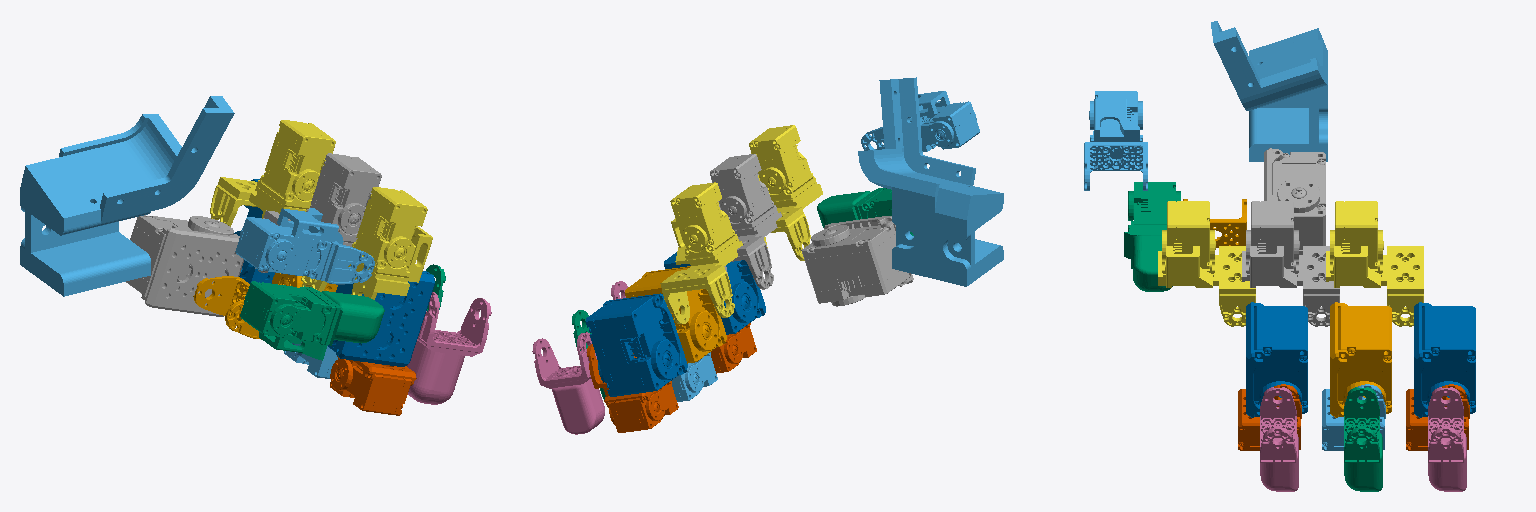
--- What the picture shows (computed from the rendered views, not written in the file) ---
The picture shows the robot from 3 angles, left to right: view 1: azimuth 30°, elevation 25°; view 2: azimuth 150°, elevation 25°; view 3: azimuth 270°, elevation 25°; orthographic projection.
Model leap_hand with 19 links and 18 joints (16 revolute, 2 fixed), rooted at world, posed all joints at 0.
Visible links, largest first — view 1: mount, pip_4, thumb_fingertip, thumb_dip, mcp_joint, mcp_joint_3, fingertip, pip, mcp_joint_2, dip, thumb_pip, dip_2 (+1 smaller); view 2: mount, pip_3, mcp_joint_3, pip_4, mcp_joint_2, mcp_joint, fingertip_3, pip_2, thumb_dip, dip_3, pip, thumb_fingertip (+2 smaller); view 3: mount, mcp_joint_3, mcp_joint, mcp_joint_2, pip, pip_2, pip_3, thumb_dip, pip_4, thumb_fingertip, fingertip, fingertip_2 (+5 smaller).
Boxes of the visible links, x1=… form: mount: x1=20, y1=96, x2=234, y2=296; pip_4: x1=126, y1=215, x2=243, y2=316; thumb_fingertip: x1=240, y1=281, x2=384, y2=360; thumb_dip: x1=235, y1=208, x2=374, y2=284; mcp_joint: x1=301, y1=187, x2=432, y2=299; mcp_joint_3: x1=210, y1=120, x2=335, y2=226; fingertip: x1=407, y1=292, x2=491, y2=404; pip: x1=328, y1=271, x2=434, y2=366; mcp_joint_2: x1=255, y1=153, x2=381, y2=272; dip: x1=330, y1=356, x2=416, y2=415; thumb_pip: x1=193, y1=276, x2=261, y2=339; dip_2: x1=284, y1=342, x2=337, y2=378; mount: x1=858, y1=77, x2=1003, y2=286; pip_3: x1=585, y1=293, x2=687, y2=396; mcp_joint_3: x1=660, y1=182, x2=742, y2=323; pip_4: x1=801, y1=216, x2=913, y2=306; mcp_joint_2: x1=710, y1=154, x2=781, y2=289; mcp_joint: x1=749, y1=125, x2=822, y2=260; fingertip_3: x1=532, y1=332, x2=604, y2=434; pip_2: x1=625, y1=266, x2=726, y2=363; thumb_dip: x1=861, y1=91, x2=979, y2=151; dip_3: x1=587, y1=344, x2=678, y2=432; pip: x1=664, y1=252, x2=765, y2=334; thumb_fingertip: x1=817, y1=188, x2=913, y2=235; mount: x1=1211, y1=21, x2=1327, y2=161; mcp_joint_3: x1=1326, y1=201, x2=1423, y2=326; mcp_joint: x1=1158, y1=201, x2=1255, y2=326; mcp_joint_2: x1=1242, y1=201, x2=1339, y2=326; pip: x1=1246, y1=302, x2=1307, y2=417; pip_2: x1=1330, y1=302, x2=1391, y2=417; pip_3: x1=1414, y1=302, x2=1475, y2=417; thumb_dip: x1=1084, y1=91, x2=1147, y2=190; pip_4: x1=1264, y1=148, x2=1325, y2=254; thumb_fingertip: x1=1124, y1=182, x2=1180, y2=291; fingertip: x1=1260, y1=387, x2=1298, y2=491; fingertip_2: x1=1344, y1=387, x2=1382, y2=491.
Size in the robot's own frame: 0.2514 by 0.2117 by 0.2103 metres.
17 mesh visuals loaded from 9 distinct referenced files (8 OBJ); not drawn: 1 (reference not matched to a file when rendering).

robot.urdf — leap_hand:
<robot name="leap_hand">
    <mujoco>
        <compiler discardvisual="false" />
    </mujoco>

    <link name="world" />

    <joint
        name="world_joint" type="fixed">
        <origin xyz="0 0 0" rpy="0 0 0" />
        <parent link="world" />
        <child link="mount" />
    </joint>

    <link name="mount">
        <visual>
            <origin xyz="0 0 0" rpy="0 0 0" />
            <geometry>
                <mesh filename="package://meshes/leap_mount.obj" />
            </geometry>
        </visual>
        <collision>
            <origin xyz="0 0 0" rpy="0 0 0" />
            <geometry>
                <mesh filename="package://meshes/leap_mount.stl" />
            </geometry>
        </collision>
    </link>

    <joint name="mount_to_palm" type="fixed">
        <origin xyz=" 0.12390202 -0.03159835 -0.06699544"
            rpy="3.14159265e+00  3.49344423e-01 -6.66133815e-16" />
        <parent link="mount" />
        <child link="palm_lower" />
    </joint>

    <link name="palm_lower">
        <visual>
            <origin xyz="-0.020095249652862544332 0.025757756134899473244 -0.034722403578460216134"
                rpy="0 -0 0" />
            <geometry>
                <mesh filename="package://meshes/palm_lower.obj" />
            </geometry>
        </visual>
        <collision>
            <origin xyz="-0.020095249652862544332 0.025757756134899473244 -0.034722403578460216134"
                rpy="0 -0 0" />
            <geometry>
                <mesh filename="package://meshes/palm_lower.stl" />
            </geometry>
        </collision>
        <inertial>
            <origin xyz="0 0 0" rpy="0 0 0" />
            <mass value="0.237" />
            <inertia ixx="0.000354094" ixy="-0.000001193" ixz="-0.000002445" iyy="0.000260915"
                iyz="-0.000002905" izz="0.000529257" />
        </inertial>
    </link>

    <link name="mcp_joint">
        <visual>
            <origin xyz="0.0084069022611744960438 0.0077662438597169954416 0.014657354985032912051"
                rpy="1.6375789613220999807e-15 -1.0210473302491019535e-30 1.7177968783327987474e-31" />
            <geometry>
                <mesh filename="package://meshes/mcp_joint.obj" />
            </geometry>
        </visual>
        <collision>
            <origin xyz="0.0084069022611744960438 0.0077662438597169954416 0.014657354985032912051"
                rpy="1.6375789613220999807e-15 -1.0210473302491019535e-30 1.7177968783327987474e-31" />
            <geometry>
                <mesh filename="package://meshes/mcp_joint.stl" />
            </geometry>
        </collision>
        <inertial>
            <origin xyz="0 0 0" rpy="0 0 0" />
            <mass value="0.044" />
            <inertia ixx="0.000011499" ixy="0.000003049" ixz="0.000000121" iyy="0.000007796"
                iyz="0.000000112" izz="0.000014759" />
        </inertial>
    </link>

    <link name="pip">
        <visual>
            <origin
                xyz="0.0096433630922713280131 0.00029999999999998951117 0.00078403401041737645627"
                rpy="-1.570796326794896558 -1.570796326794896336 0" />
            <geometry>
                <mesh filename="package://meshes/pip.obj" />
            </geometry>
        </visual>
        <collision>
            <origin
                xyz="0.0096433630922713280131 0.00029999999999998951117 0.00078403401041737645627"
                rpy="-1.570796326794896558 -1.570796326794896336 0" />
            <geometry>
                <mesh filename="package://meshes/pip.stl" />
            </geometry>
        </collision>
        <inertial>
            <origin xyz="0 0 0" rpy="0 0 0" />
            <mass value="0.032" />
            <inertia ixx="0.000004798" ixy="0.000000012" ixz="0.000000004" iyy="0.000002862"
                iyz="0.000000011" izz="0.000004234" />
        </inertial>
    </link>

    <link name="dip">
        <visual>
            <origin xyz="0.021133352895225002849 -0.0084321191467048792201 0.0097850881620952408213"
                rpy="-3.141592653589793116 4.5075111242164408299e-32 4.4395481053923607589e-32" />
            <geometry>
                <mesh filename="package://meshes/dip.obj" />
            </geometry>
        </visual>
        <collision>
            <origin xyz="0.021133352895225002849 -0.0084321191467048792201 0.0097850881620952408213"
                rpy="-3.141592653589793116 4.5075111242164408299e-32 4.4395481053923607589e-32" />
            <geometry>
                <mesh filename="package://meshes/dip.stl" />
            </geometry>
        </collision>
        <inertial>
            <origin xyz="0 0 0" rpy="0 0 0" />
            <mass value="0.037" />
            <inertia ixx="0.000005542" ixy="-0.000000607" ixz="-0.000000017" iyy="0.000005727"
                iyz="-0.000000023" izz="0.000006682" />
        </inertial>
    </link>

    <link name="fingertip">
        <visual>
            <origin xyz="0.013286424108533503169 -0.0061142383865419869249 0.014499999999999497666"
                rpy="3.141592653589793116 1.1993117970061734707e-33 4.4395481053923607589e-32" />
            <geometry>
                <mesh filename="package://meshes/fingertip.obj" />
            </geometry>
        </visual>
        <collision>
            <origin xyz="0.013286424108533503169 -0.0061142383865419869249 0.014499999999999497666"
                rpy="3.141592653589793116 1.1993117970061734707e-33 4.4395481053923607589e-32" />
            <geometry>
                <mesh filename="package://meshes/fingertip.stl" />
            </geometry>
        </collision>
        <inertial>
            <origin xyz="0 0 0" rpy="0 0 0" />
            <mass value="0.016" />
            <inertia ixx="0.000003368" ixy="0.000000115" ixz="0" iyy="0.000001556" iyz="0"
                izz="0.000002863" />
        </inertial>
    </link>

    <joint name="0" type="revolute">
        <origin xyz="-0.012200000000000007713 0.038099999999999994982 0.014500000000000000736"
            rpy="-1.570796326794896558 -1.0065212660796336576e-15 1.5707963267948943376" />
        <parent link="mcp_joint" />
        <child link="pip" />
        <axis xyz="0 0 -1" />
        <limit effort="0.95" velocity="8.48" lower="-1.047" upper="1.047" />
        <joint_properties friction="0.0" />
    </joint>

    <joint name="1" type="revolute">
        <origin xyz="-0.0070952496528625457958 0.023057756134899472233 -0.01872240357846021927"
            rpy="1.5707963267948950037 1.5707963267948945596 0" />
        <parent link="palm_lower" />
        <child link="mcp_joint" />
        <axis xyz="0 0 -1" />
        <limit effort="0.95" velocity="8.48" lower="-0.314" upper="2.23" />
        <joint_properties friction="0.0" />
    </joint>

    <joint name="2" type="revolute">
        <origin xyz="0.01499999999999996822 0.014299999999999904801 -0.012999999999999824196"
            rpy="1.5707963267948958919 -1.570796326794896336 0" />
        <parent link="pip" />
        <child link="dip" />
        <axis xyz="0 0 -1" />
        <limit effort="0.95" velocity="8.48" lower="-0.506" upper="1.885" />
        <joint_properties friction="0.0" />
    </joint>

    <joint name="3" type="revolute">
        <origin xyz="-4.0880582495572692636e-09 -0.036100004210367367397 0.00020000000000007858714"
            rpy="4.5935029425113685044e-17 -2.8730071914463794583e-16 4.4395481053923607589e-32" />
        <parent link="dip" />
        <child link="fingertip" />
        <axis xyz="0 0 -1" />
        <limit effort="0.95" velocity="8.48" lower="-0.366" upper="2.042" />
        <joint_properties friction="0.0" />
    </joint>

    <link name="mcp_joint_2">
        <visual>
            <origin xyz="0.0084069022611744960438 0.0077662438597169954416 0.014657354985032913786"
                rpy="1.6375789613220999807e-15 -1.0076465469034000467e-30 2.1209300131419907151e-61" />
            <geometry>
                <mesh filename="package://meshes/mcp_joint.obj" />
            </geometry>
        </visual>
        <collision>
            <origin xyz="0.0084069022611744960438 0.0077662438597169954416 0.014657354985032913786"
                rpy="1.6375789613220999807e-15 -1.0076465469034000467e-30 2.1209300131419907151e-61" />
            <geometry>
                <mesh filename="package://meshes/mcp_joint.stl" />
            </geometry>
        </collision>
        <inertial>
            <origin xyz="0 0 0" rpy="0 0 0" />
            <mass value="0.044" />
            <inertia ixx="0.000011499" ixy="0.000003049" ixz="0.000000121" iyy="0.000007796"
                iyz="0.000000112" izz="0.000014759" />
        </inertial>
    </link>

    <link name="pip_2">
        <visual>
            <origin
                xyz="0.0096433630922713280131 0.00029999999999999471534 0.00078403401041737645627"
                rpy="-1.570796326794896558 -1.570796326794896336 0" />
            <geometry>
                <mesh filename="package://meshes/pip.obj" />
            </geometry>
        </visual>
        <collision>
            <origin
                xyz="0.0096433630922713280131 0.00029999999999999471534 0.00078403401041737645627"
                rpy="-1.570796326794896558 -1.570796326794896336 0" />
            <geometry>
                <mesh filename="package://meshes/pip.stl" />
            </geometry>
        </collision>
        <inertial>
            <origin xyz="0 0 0" rpy="0 0 0" />
            <mass value="0.032" />
            <inertia ixx="0.000004798" ixy="0.000000012" ixz="0.000000004" iyy="0.000002862"
                iyz="0.000000011" izz="0.000004234" />
        </inertial>
    </link>

    <link name="dip_2">
        <visual>
            <origin xyz="0.021133352895225002849 -0.0084321191467048653423 0.0097850881620952373519"
                rpy="-3.141592653589793116 2.1146933785271955805e-32 1.4408183216511868558e-31" />
            <geometry>
                <mesh filename="package://meshes/dip.obj" />
            </geometry>
        </visual>
        <collision>
            <origin xyz="0.021133352895225002849 -0.0084321191467048653423 0.0097850881620952373519"
                rpy="-3.141592653589793116 2.1146933785271955805e-32 1.4408183216511868558e-31" />
            <geometry>
                <mesh filename="package://meshes/dip.stl" />
            </geometry>
        </collision>
        <inertial>
            <origin xyz="0 0 0" rpy="0 0 0" />
            <mass value="0.037" />
            <inertia ixx="0.000005542" ixy="-0.000000607" ixz="-0.000000017" iyy="0.000005727"
                iyz="-0.000000023" izz="0.000006682" />
        </inertial>
    </link>

    <link name="fingertip_2">
        <visual>
            <origin xyz="0.01328642410853349623 -0.0061142383865420008027 0.014499999999999495931"
                rpy="3.141592653589793116 -4.3179597882835943107e-33 1.4408183216511868558e-31" />
            <geometry>
                <mesh filename="package://meshes/fingertip.obj" />
            </geometry>
        </visual>
        <collision>
            <origin xyz="0.01328642410853349623 -0.0061142383865420008027 0.014499999999999495931"
                rpy="3.141592653589793116 -4.3179597882835943107e-33 1.4408183216511868558e-31" />
            <geometry>
                <mesh filename="package://meshes/fingertip.stl" />
            </geometry>
        </collision>
        <inertial>
            <origin xyz="0 0 0" rpy="0 0 0" />
            <mass value="0.016" />
            <inertia ixx="0.000003368" ixy="0.000000115" ixz="0" iyy="0.000001556" iyz="0"
                izz="0.000002863" />
        </inertial>
    </link>

    <joint name="4" type="revolute">
        <origin xyz="-0.012200000000000019856 0.038099999999999981104 0.01450000000000000594"
            rpy="-1.570796326794896558 -1.0065212760057939085e-15 1.5707963267948943376" />
        <parent link="mcp_joint_2" />
        <child link="pip_2" />
        <axis xyz="0 0 -1" />
        <limit effort="0.95" velocity="8.48" lower="-1.047" upper="1.047" />
        <joint_properties friction="0.0" />
    </joint>

    <joint name="5" type="revolute">
        <origin xyz="-0.0070952496528625388569 -0.022392243865100525113 -0.018722403578460229678"
            rpy="1.570796326794896558 1.570796326794896558 0" />
        <parent link="palm_lower" />
        <child link="mcp_joint_2" />
        <axis xyz="0 0 -1" />
        <limit effort="0.95" velocity="8.48" lower="-0.314" upper="2.23" />
        <joint_properties friction="0.0" />
    </joint>

    <joint name="6" type="revolute">
        <origin xyz="0.014999999999999975159 0.014300000000000000211 -0.013000000000000018485"
            rpy="1.5707963267948958919 -1.570796326794896336 0" />
        <parent link="pip_2" />
        <child link="dip_2" />
        <axis xyz="0 0 -1" />
        <limit effort="0.95" velocity="8.48" lower="-0.506" upper="1.885" />
        <joint_properties friction="0.0" />
    </joint>

    <joint name="7" type="revolute">
        <origin xyz="1.0061396160665481148e-16 -0.036099999999999854428 0.00020000000000007858714"
            rpy="4.5935029425113654229e-17 -2.8730071914463794583e-16 1.4408183216511868558e-31" />
        <parent link="dip_2" />
        <child link="fingertip_2" />
        <axis xyz="0 0 -1" />
        <limit effort="0.95" velocity="8.48" lower="-0.366" upper="2.042" />
        <joint_properties friction="0.0" />
    </joint>

    <link name="mcp_joint_3">
        <visual>
            <origin xyz="0.0084069022611744995133 0.0077662438597169963089 0.014657354985032913786"
                rpy="1.6375789613220999807e-15 -1.0059504988632626953e-30 5.729641584552035421e-32" />
            <geometry>
                <mesh filename="package://meshes/mcp_joint.obj" />
            </geometry>
        </visual>
        <collision>
            <origin xyz="0.0084069022611744995133 0.0077662438597169963089 0.014657354985032913786"
                rpy="1.6375789613220999807e-15 -1.0059504988632626953e-30 5.729641584552035421e-32" />
            <geometry>
                <mesh filename="package://meshes/mcp_joint.stl" />
            </geometry>
        </collision>
        <inertial>
            <origin xyz="0 0 0" rpy="0 0 0" />
            <mass value="0.044" />
            <inertia ixx="0.000011499" ixy="0.000003049" ixz="0.000000121" iyy="0.000007796"
                iyz="0.000000112" izz="0.000014759" />
        </inertial>
    </link>

    <link name="pip_3">
        <visual>
            <origin
                xyz="0.0096433630922713314826 0.00029999999999998083755 0.00078403401041737645627"
                rpy="-1.570796326794896558 -1.570796326794896336 0" />
            <geometry>
                <mesh filename="package://meshes/pip.obj" />
            </geometry>
        </visual>
        <collision>
            <origin
                xyz="0.0096433630922713314826 0.00029999999999998083755 0.00078403401041737645627"
                rpy="-1.570796326794896558 -1.570796326794896336 0" />
            <geometry>
                <mesh filename="package://meshes/pip.stl" />
            </geometry>
        </collision>
        <inertial>
            <origin xyz="0 0 0" rpy="0 0 0" />
            <mass value="0.032" />
            <inertia ixx="0.000004798" ixy="0.000000012" ixz="0.000000004" iyy="0.000002862"
                iyz="0.000000011" izz="0.000004234" />
        </inertial>
    </link>

    <link name="dip_3">
        <visual>
            <origin xyz="0.021133352895225006318 -0.0084321191467048653423 0.0097850881620952373519"
                rpy="-3.141592653589793116 -1.4095651113919093005e-33 1.5565411607615035382e-32" />
            <geometry>
                <mesh filename="package://meshes/dip.obj" />
            </geometry>
        </visual>
        <collision>
            <origin xyz="0.021133352895225006318 -0.0084321191467048653423 0.0097850881620952373519"
                rpy="-3.141592653589793116 -1.4095651113919093005e-33 1.5565411607615035382e-32" />
            <geometry>
                <mesh filename="package://meshes/dip.stl" />
            </geometry>
        </collision>
        <inertial>
            <origin xyz="0 0 0" rpy="0 0 0" />
            <mass value="0.037" />
            <inertia ixx="0.000005542" ixy="-0.000000607" ixz="-0.000000017" iyy="0.000005727"
                iyz="-0.000000023" izz="0.000006682" />
        </inertial>
        <joint name="mount_to_palm" type="fixed">
            <origin xyz=" 0.12390202 -0.03159835 -0.06699544"
                rpy="3.14159265e+00  3.49344423e-01 -6.66133815e-16" />
            <parent link="mount" />
            <child link="palm_lower" />
        </joint>

        <link name="palm_lower">
            <visual>
                <origin
                    xyz="-0.020095249652862544332 0.025757756134899473244 -0.034722403578460216134"
                    rpy="0 -0 0" />
                <geometry>
                    <mesh filename="package://meshes/palm_lower.obj" />
                </geometry>
            </visual>
            <collision>
                <origin
                    xyz="-0.020095249652862544332 0.025757756134899473244 -0.034722403578460216134"
                    rpy="0 -0 0" />
                <geometry>
                    <mesh filename="package://meshes/palm_lower.stl" />
                </geometry>
            </collision>
            <inertial>
                <origin xyz="0 0 0" rpy="0 0 0" />
                <mass value="0.237" />
                <inertia ixx="0.000354094" ixy="-0.000001193" ixz="-0.000002445" iyy="0.000260915"
                    iyz="-0.000002905" izz="0.000529257" />
            </inertial>
        </link>

        <link name="mcp_joint">
            <visual>
                <origin
                    xyz="0.0084069022611744960438 0.0077662438597169954416 0.014657354985032912051"
                    rpy="1.6375789613220999807e-15 -1.0210473302491019535e-30 1.7177968783327987474e-31" />
                <geometry>
                    <mesh filename="package://meshes/mcp_joint.obj" />
                </geometry>
            </visual>
            <collision>
                <origin
                    xyz="0.0084069022611744960438 0.0077662438597169954416 0.014657354985032912051"
                    rpy="1.6375789613220999807e-15 -1.0210473302491019535e-30 1.7177968783327987474e-31" />
                <geometry>
                    <mesh filename="package://meshes/mcp_joint.stl" />
                </geometry>
            </collision>
            <inertial>
                <origin xyz="0 0 0" rpy="0 0 0" />
                <mass value="0.044" />
                <inertia ixx="0.000011499" ixy="0.000003049" ixz="0.000000121" iyy="0.000007796"
                    iyz="0.000000112" izz="0.000014759" />
            </inertial>
        </link>

        <link name="pip">
            <visual>
                <origin
                    xyz="0.0096433630922713280131 0.00029999999999998951117 0.00078403401041737645627"
                    rpy="-1.570796326794896558 -1.570796326794896336 0" />
                <geometry>
                    <mesh filename="package://meshes/pip.obj" />
                </geometry>
            </visual>
            <collision>
                <origin
                    xyz="0.0096433630922713280131 0.00029999999999998951117 0.00078403401041737645627"
                    rpy="-1.570796326794896558 -1.570796326794896336 0" />
                <geometry>
                    <mesh filename="package://meshes/pip.stl" />
                </geometry>
            </collision>
            <inertial>
                <origin xyz="0 0 0" rpy="0 0 0" />
                <mass value="0.032" />
                <inertia ixx="0.000004798" ixy="0.000000012" ixz="0.000000004" iyy="0.000002862"
                    iyz="0.000000011" izz="0.000004234" />
            </inertial>
        </link>

        <link name="dip">
            <visual>
                <origin
                    xyz="0.021133352895225002849 -0.0084321191467048792201 0.0097850881620952408213"
                    rpy="-3.141592653589793116 4.5075111242164408299e-32 4.4395481053923607589e-32" />
                <geometry>
                    <mesh filename="package://meshes/dip.obj" />
                </geometry>
            </visual>
            <collision>
                <origin
                    xyz="0.021133352895225002849 -0.0084321191467048792201 0.0097850881620952408213"
                    rpy="-3.141592653589793116 4.5075111242164408299e-32 4.4395481053923607589e-32" />
                <geometry>
                    <mesh filename="package://meshes/dip.stl" />
                </geometry>
            </collision>
            <inertial>
                <origin xyz="0 0 0" rpy="0 0 0" />
                <mass value="0.037" />
                <inertia ixx="0.000005542" ixy="-0.000000607" ixz="-0.000000017" iyy="0.000005727"
                    iyz="-0.000000023" izz="0.000006682" />
            </inertial>
        </link>

        <link name="fingertip">
            <visual>
                <origin
                    xyz="0.013286424108533503169 -0.0061142383865419869249 0.014499999999999497666"
                    rpy="3.141592653589793116 1.1993117970061734707e-33 4.4395481053923607589e-32" />
                <geometry>
                    <mesh filename="package://meshes/fingertip.obj" />
                </geometry>
            </visual>
            <collision>
                <origin
                    xyz="0.013286424108533503169 -0.0061142383865419869249 0.014499999999999497666"
                    rpy="3.141592653589793116 1.1993117970061734707e-33 4.4395481053923607589e-32" />
                <geometry>
                    <mesh filename="package://meshes/fingertip.stl" />
                </geometry>
            </collision>
            <inertial>
                <origin xyz="0 0 0" rpy="0 0 0" />
                <mass value="0.016" />
                <inertia ixx="0.000003368" ixy="0.000000115" ixz="0" iyy="0.000001556" iyz="0"
                    izz="0.000002863" />
            </inertial>
        </link>

        <joint name="0" type="revolute">
            <origin xyz="-0.012200000000000007713 0.038099999999999994982 0.014500000000000000736"
                rpy="-1.570796326794896558 -1.0065212660796336576e-15 1.5707963267948943376" />
            <parent link="mcp_joint" />
            <child link="pip" />
            <axis xyz="0 0 -1" />
            <limit effort="0.95" velocity="8.48" lower="-1.047" upper="1.047" />
            <joint_properties friction="0.0" />
        </joint>

        <joint name="1" type="revolute">
            <origin xyz="-0.0070952496528625457958 0.023057756134899472233 -0.01872240357846021927"
                rpy="1.5707963267948950037 1.5707963267948945596 0" />
            <parent link="palm_lower" />
            <child link="mcp_joint" />
            <axis xyz="0 0 -1" />
            <limit effort="0.95" velocity="8.48" lower="-0.314" upper="2.23" />
            <joint_properties friction="0.0" />
        </joint>

        <joint name="2" type="revolute">
            <origin xyz="0.01499999999999996822 0.014299999999999904801 -0.012999999999999824196"
                rpy="1.5707963267948958919 -1.570796326794896336 0" />
            <parent link="pip" />
            <child link="dip" />
            <axis xyz="0 0 -1" />
            <limit effort="0.95" velocity="8.48" lower="-0.506" upper="1.885" />
            <joint_properties friction="0.0" />
        </joint>

        <joint name="3" type="revolute">
            <origin
                xyz="-4.0880582495572692636e-09 -0.036100004210367367397 0.00020000000000007858714"
                rpy="4.5935029425113685044e-17 -2.8730071914463794583e-16 4.4395481053923607589e-32" />
            <parent link="dip" />
            <child link="fingertip" />
            <axis xyz="0 0 -1" />
            <limit effort="0.95" velocity="8.48" lower="-0.366" upper="2.042" />
            <joint_properties friction="0.0" />
        </joint>

        <link name="mcp_joint_2">
            <visual>
                <origin
                    xyz="0.0084069022611744960438 0.0077662438597169954416 0.014657354985032913786"
                    rpy="1.6375789613220999807e-15 -1.0076465469034000467e-30 2.1209300131419907151e-61" />
                <geometry>
                    <mesh filename="package://meshes/mcp_joint.obj" />
                </geometry>
            </visual>
            <collision>
                <origin
                    xyz="0.0084069022611744960438 0.0077662438597169954416 0.014657354985032913786"
                    rpy="1.6375789613220999807e-15 -1.0076465469034000467e-30 2.1209300131419907151e-61" />
                <geometry>
                    <mesh filename="package://meshes/mcp_joint.stl" />
                </geometry>
            </collision>
            <inertial>
                <origin xyz="0 0 0" rpy="0 0 0" />
                <mass value="0.044" />
                <inertia ixx="0.000011499" ixy="0.000003049" ixz="0.000000121" iyy="0.000007796"
                    iyz="0.000000112" izz="0.000014759" />
            </inertial>
        </link>

        <link name="pip_2">
            <visual>
                <origin
                    xyz="0.0096433630922713280131 0.00029999999999999471534 0.00078403401041737645627"
                    rpy="-1.570796326794896558 -1.570796326794896336 0" />
                <geometry>
                    <mesh filename="package://meshes/pip.obj" />
                </geometry>
            </visual>
            <collision>
                <origin
                    xyz="0.0096433630922713280131 0.00029999999999999471534 0.00078403401041737645627"
                    rpy="-1.570796326794896558 -1.570796326794896336 0" />
                <geometry>
                    <mesh filename="package://meshes/pip.stl" />
                </geometry>
            </collision>
            <inertial>
                <origin xyz="0 0 0" rpy="0 0 0" />
                <mass value="0.032" />
                <inertia ixx="0.000004798" ixy="0.000000012" ixz="0.000000004" iyy="0.000002862"
                    iyz="0.000000011" izz="0.000004234" />
            </inertial>
        </link>

        <link name="dip_2">
            <visual>
                <origin
                    xyz="0.021133352895225002849 -0.0084321191467048653423 0.0097850881620952373519"
                    rpy="-3.141592653589793116 2.1146933785271955805e-32 1.4408183216511868558e-31" />
                <geometry>
                    <mesh filename="package://meshes/dip.obj" />
                </geometry>
            </visual>
            <collision>
                <origin
                    xyz="0.021133352895225002849 -0.0084321191467048653423 0.0097850881620952373519"
                    rpy="-3.141592653589793116 2.1146933785271955805e-32 1.4408183216511868558e-31" />
                <geometry>
                    <mesh filename="package://meshes/dip.stl" />
                </geometry>
            </collision>
            <inertial>
                <origin xyz="0 0 0" rpy="0 0 0" />
                <mass value="0.037" />
                <inertia ixx="0.000005542" ixy="-0.000000607" ixz="-0.000000017" iyy="0.000005727"
                    iyz="-0.000000023" izz="0.000006682" />
            </inertial>
        </link>

        <link name="fingertip_2">
            <visual>
                <origin
                    xyz="0.01328642410853349623 -0.0061142383865420008027 0.014499999999999495931"
                    rpy="3.141592653589793116 -4.3179597882835943107e-33 1.4408183216511868558e-31" />
                <geometry>
                    <mesh filename="package://meshes/fingertip.obj" />
                </geometry>
            </visual>
            <collision>
                <origin
                    xyz="0.01328642410853349623 -0.0061142383865420008027 0.014499999999999495931"
                    rpy="3.141592653589793116 -4.3179597882835943107e-33 1.4408183216511868558e-31" />
                <geometry>
                    <mesh filename="package://meshes/fingertip.stl" />
                </geometry>
            </collision>
            <inertial>
                <origin xyz="0 0 0" rpy="0 0 0" />
                <mass value="0.016" />
                <inertia ixx="0.000003368" ixy="0.000000115" ixz="0" iyy="0.000001556" iyz="0"
                    izz="0.000002863" />
            </inertial>
        </link>

        <joint name="4" type="revolute">
            <origin xyz="-0.012200000000000019856 0.038099999999999981104 0.01450000000000000594"
                rpy="-1.570796326794896558 -1.0065212760057939085e-15 1.5707963267948943376" />
            <parent link="mcp_joint_2" />
            <child link="pip_2" />
            <axis xyz="0 0 -1" />
            <limit effort="0.95" velocity="8.48" lower="-1.047" upper="1.047" />
            <joint_properties friction="0.0" />
        </joint>

        <joint name="5" type="revolute">
            <origin
                xyz="-0.0070952496528625388569 -0.022392243865100525113 -0.018722403578460229678"
                rpy="1.570796326794896558 1.570796326794896558 0" />
            <parent link="palm_lower" />
            <child link="mcp_joint_2" />
            <axis xyz="0 0 -1" />
            <limit effort="0.95" velocity="8.48" lower="-0.314" upper="2.23" />
            <joint_properties friction="0.0" />
        </joint>

        <joint name="6" type="revolute">
            <origin xyz="0.014999999999999975159 0.014300000000000000211 -0.013000000000000018485"
                rpy="1.5707963267948958919 -1.570796326794896336 0" />
            <parent link="pip_2" />
            <child link="dip_2" />
            <axis xyz="0 0 -1" />
            <limit effort="0.95" velocity="8.48" lower="-0.506" upper="1.885" />
            <joint_properties friction="0.0" />
        </joint>

        <joint name="7" type="revolute">
            <origin
                xyz="1.0061396160665481148e-16 -0.036099999999999854428 0.00020000000000007858714"
                rpy="4.5935029425113654229e-17 -2.8730071914463794583e-16 1.4408183216511868558e-31" />
            <parent link="dip_2" />
            <child link="fingertip_2" />
            <axis xyz="0 0 -1" />
            <limit effort="0.95" velocity="8.48" lower="-0.366" upper="2.042" />
            <joint_properties friction="0.0" />
        </joint>

        <link name="mcp_joint_3">
            <visual>
                <origin
                    xyz="0.0084069022611744995133 0.0077662438597169963089 0.014657354985032913786"
                    rpy="1.6375789613220999807e-15 -1.0059504988632626953e-30 5.729641584552035421e-32" />
                <geometry>
                    <mesh filename="package://meshes/mcp_joint.obj" />
                </geometry>
            </visual>
            <collision>
                <origin
                    xyz="0.0084069022611744995133 0.0077662438597169963089 0.014657354985032913786"
                    rpy="1.6375789613220999807e-15 -1.0059504988632626953e-30 5.729641584552035421e-32" />
                <geometry>
                    <mesh filename="package://meshes/mcp_joint.stl" />
                </geometry>
            </collision>
            <inertial>
                <origin xyz="0 0 0" rpy="0 0 0" />
                <mass value="0.044" />
                <inertia ixx="0.000011499" ixy="0.000003049" ixz="0.000000121" iyy="0.000007796"
                    iyz="0.000000112" izz="0.000014759" />
            </inertial>
        </link>

        <link name="pip_3">
            <visual>
                <origin
                    xyz="0.0096433630922713314826 0.00029999999999998083755 0.00078403401041737645627"
                    rpy="-1.570796326794896558 -1.570796326794896336 0" />
                <geometry>
                    <mesh filename="package://meshes/pip.obj" />
                </geometry>
            </visual>
            <collision>
                <origin
                    xyz="0.0096433630922713314826 0.00029999999999998083755 0.00078403401041737645627"
                    rpy="-1.570796326794896558 -1.570796326794896336 0" />
                <geometry>
                    <mesh filename="package://meshes/pip.stl" />
                </geometry>
            </collision>
            <inertial>
                <origin xyz="0 0 0" rpy="0 0 0" />
                <mass value="0.032" />
                <inertia ixx="0.000004798" ixy="0.000000012" ixz="0.000000004" iyy="0.000002862"
                    iyz="0.000000011" izz="0.000004234" />
            </inertial>
        </link>

        <link name="dip_3">
            <visual>
                <origin
                    xyz="0.021133352895225006318 -0.0084321191467048653423 0.0097850881620952373519"
                    rpy="-3.141592653589793116 -1.4095651113919093005e-33 1.5565411607615035382e-32" />
                <geometry>
                    <mesh filename="package://meshes/dip.obj" />
                </geometry>
            </visual>
            <collision>
                <origin
                    xyz="0.021133352895225006318 -0.0084321191467048653423 0.0097850881620952373519"
                    rpy="-3.141592653589793116 -1.4095651113919093005e-33 1.5565411607615035382e-32" />
                <geometry>
                    <mesh filename="package://meshes/dip.stl" />
                </geometry>
            </collision>
            <inertial>
                <origin xyz="0 0 0" rpy="0 0 0" />
                <mass value="0.037" />
                <inertia ixx="0.000005542" ixy="-0.000000607" ixz="-0.000000017" iyy="0.000005727"
                    iyz="-0.000000023" izz="0.000006682" />
            </inertial>
        </link>

        <link name="fingertip_3">
            <visual>
                <origin
                    xyz="0.013286424108533501434 -0.0061142383865419869249 0.0144999999999994994"
                    rpy="3.141592653589793116 8.6170716950575402125e-33 1.5565411607615035382e-32" />
                <geometry>
                    <mesh filename="package://meshes/fingertip.obj" />
                </geometry>
            </visual>
            <collision>
                <origin
                    xyz="0.013286424108533501434 -0.0061142383865419869249 0.0144999999999994994"
                    rpy="3.141592653589793116 8.6170716950575402125e-33 1.5565411607615035382e-32" />
                <geometry>
                    <mesh filename="package://meshes/fingertip.stl" />
                </geometry>
            </collision>
            <inertial>
                <origin xyz="0 0 0" rpy="0 0 0" />
                <mass value="0.016" />
                <inertia ixx="0.000003368" ixy="0.000000115" ixz="0" iyy="0.000001556" iyz="0"
                    izz="0.000002863" />
            </inertial>
        </link>

        <joint name="8" type="revolute">
            <origin xyz="-0.012200000000000004244 0.038100000000000001921 0.014499999999999999001"
                rpy="-1.570796326794896558 -1.0065212660796360242e-15 1.5707963267948943376" />
            <parent link="mcp_joint_3" />
            <child link="pip_3" />
            <axis xyz="0 0 -1" />
            <limit effort="0.95" velocity="8.48" lower="-1.047" upper="1.047" />
            <joint_properties friction="0.0" />
        </joint>

        <joint name="9" type="revolute">
            <origin
                xyz="-0.0070952454426398371343 -0.067842243865100515521 -0.018722407666402932774"
                rpy="1.5707963267948950037 1.5707963267948945596 0" />
            <parent link="palm_lower" />
            <child link="mcp_joint_3" />
            <axis xyz="0 0 -1" />
            <limit effort="0.95" velocity="8.48" lower="-0.314" upper="2.23" />
            <joint_properties friction="0.0" />
        </joint>

        <joint name="10" type="revolute">
            <origin xyz="0.014999999999999971689 0.014299999999999951639 -0.012999999999999959505"
                rpy="1.5707963267948958919 -1.570796326794896336 0" />
            <parent link="pip_3" />
            <child link="dip_3" />
            <axis xyz="0 0 -1" />
            <limit effort="0.95" velocity="8.48" lower="-0.506" upper="1.885" />
            <joint_properties friction="0.0" />
        </joint>

        <joint name="11" type="revolute">
            <origin
                xyz="9.7144514654701197287e-17 -0.036099999999999868305 0.00020000000000007511769"
                rpy="4.5935029425113685044e-17 -2.8730071914463799514e-16 1.5565411607615035382e-32" />
            <parent link="dip_3" />
            <child link="fingertip_3" />
            <axis xyz="0 0 -1" />
            <limit effort="0.95" velocity="8.48" lower="-0.366" upper="2.042" />
            <joint_properties friction="0.0" />
        </joint>

        <link name="pip_4">
            <visual>
                <origin
                    xyz="-0.0053566369077286714317 0.00029999999999999991951 0.00078403401041737819099"
                    rpy="-1.570796326794896558 -1.570796326794896336 0" />
                <geometry>
                    <mesh filename="package://meshes/pip.obj" />
                </geometry>
            </visual>
            <collision>
                <origin
                    xyz="-0.0053566369077286714317 0.00029999999999999991951 0.00078403401041737819099"
                    rpy="-1.570796326794896558 -1.570796326794896336 0" />
                <geometry>
                    <mesh filename="package://meshes/pip.stl" />
                </geometry>
            </collision>
            <inertial>
                <origin xyz="0 0 0" rpy="0 0 0" />
                <mass value="0.032" />
                <inertia ixx="0.000004798" ixy="0.000000012" ixz="0.000000004" iyy="0.000002862"
                    iyz="0.000000011" izz="0.000004234" />
            </inertial>
        </link>

        <link name="thumb_pip">
            <visual>
                <origin
                    xyz="0.011961920770611186859 -5.3082538364890297089e-16 -0.015852648956664199681"
                    rpy="1.570796326794896558 1.6050198443300152637e-46 -3.9204996250525192755e-59" />
                <geometry>
                    <mesh filename="package://meshes/thumb_pip.obj" />
                </geometry>
            </visual>
            <collision>
                <origin
                    xyz="0.011961920770611186859 -5.3082538364890297089e-16 -0.015852648956664199681"
                    rpy="1.570796326794896558 1.6050198443300152637e-46 -3.9204996250525192755e-59" />
                <geometry>
                    <mesh filename="package://meshes/thumb_pip.stl" />
                </geometry>
            </collision>
            <inertial>
                <origin xyz="0 0 0" rpy="0 0 0" />
                <mass value="0.003" />
                <inertia ixx="0.000000593" ixy="0" ixz="0" iyy="0.000000549" iyz="0"
                    izz="0.000000224" />
            </inertial>
        </link>

        <link name="thumb_dip">
            <visual>
                <origin
                    xyz="0.043968715707239175439 0.057952952973709198625 -0.0086286764493694757122"
                    rpy="1.9428902930940098942e-16 3.2751579226442200773e-15 1.1123758529657360012e-46" />
                <geometry>
                    <mesh filename="package://meshes/thumb_dip.obj" />
                </geometry>
            </visual>
            <collision>
                <origin
                    xyz="0.043968715707239175439 0.057952952973709198625 -0.0086286764493694757122"
                    rpy="1.9428902930940098942e-16 3.2751579226442200773e-15 1.1123758529657360012e-46" />
                <geometry>
                    <mesh filename="package://meshes/thumb_dip.stl" />
                </geometry>
            </collision>
            <inertial>
                <origin xyz="0 0 0" rpy="0 0 0" />
                <mass value="0.038" />
                <inertia ixx="0.000008474" ixy="0.000000241" ixz="0.000000026" iyy="0.000003841"
                    iyz="0.000000025" izz="0.000007679" />
            </inertial>
        </link>

        <link name="thumb_fingertip">
            <visual>
                <origin
                    xyz="0.062559538462667388381 0.078459682911396988469 0.048992911807332215068"
                    rpy="4.3790577010156367543e-47 -3.3306690738754701143e-16 1.2042408677791935383e-46" />
                <geometry>
                    <mesh filename="package://meshes/thumb_fingertip.obj" />
                </geometry>
            </visual>
            <collision>
                <origin
                    xyz="0.062559538462667388381 0.078459682911396988469 0.048992911807332215068"
                    rpy="4.3790577010156367543e-47 -3.3306690738754701143e-16 1.2042408677791935383e-46" />
                <geometry>
                    <mesh filename="package://meshes/thumb_fingertip.stl" />
                </geometry>
            </collision>
            <inertial>
                <origin xyz="0 0 0" rpy="0 0 0" />
                <mass value="0.049" />
                <inertia ixx="0.000020372" ixy="-0.000000489" ixz="-0.00000003" iyy="0.000004336"
                    iyz="-0.000000097" izz="0.000019845" />
            </inertial>
        </link>

        <joint name="12" type="revolute">
            <origin
                xyz="-0.069395249652862533996 -0.0012422438651005258004 -0.021622403578460215601"
                rpy="-8.2381766464939424156e-17 1.5707963267948956698 0" />
            <parent link="palm_lower" />
            <child link="pip_4" />
            <axis xyz="0 0 -1" />
            <limit effort="0.95" velocity="8.48" lower="-0.349" upper="2.094" />
            <joint_properties friction="0.0" />
        </joint>

        <joint name="13" type="revolute">
            <origin
                xyz="-2.7755575615628913511e-17 0.014300000000000005415 -0.013000000000000011546"
                rpy="1.5707963267948958919 -1.570796326794896336 0" />
            <parent link="pip_4" />
            <child link="thumb_pip" />
            <axis xyz="0 0 -1" />
            <limit effort="0.95" velocity="8.48" lower="-0.47" upper="2.443" />
            <joint_properties friction="0.0" />
        </joint>

        <joint name="14" type="revolute">
            <origin xyz="0 0.014499999999999966041 -0.017000000000000053263"
                rpy="-1.570796326794896558 1.6050198443300131245e-46 -1.9721522630516624601e-31" />
            <parent link="thumb_pip" />
            <child link="thumb_dip" />
            <axis xyz="0 0 -1" />
            <limit effort="0.95" velocity="8.48" lower="-1.20" upper="1.90" />
            <joint_properties friction="0.0" />
        </joint>

        <joint name="15" type="revolute">
            <origin
                xyz="-1.249000902703301108e-16 0.046599999999999863753 0.00019999999999997710581"
                rpy="1.5063958491491781023e-44 5.4234187233935260503e-31 3.141592653589793116" />
            <parent link="thumb_dip" />
            <child link="thumb_fingertip" />
            <axis xyz="0 0 -1" />
            <limit effort="0.95" velocity="8.48" lower="-1.34" upper="1.88" />
            <joint_properties friction="0.0" />
        </joint>

    </link>

    <link
        name="fingertip_3">
        <visual>
            <origin xyz="0.013286424108533501434 -0.0061142383865419869249 0.0144999999999994994"
                rpy="3.141592653589793116 8.6170716950575402125e-33 1.5565411607615035382e-32" />
            <geometry>
                <mesh filename="package://meshes/fingertip.obj" />
            </geometry>
        </visual>
        <collision>
            <origin xyz="0.013286424108533501434 -0.0061142383865419869249 0.0144999999999994994"
                rpy="3.141592653589793116 8.6170716950575402125e-33 1.5565411607615035382e-32" />
            <geometry>
                <mesh filename="package://meshes/fingertip.stl" />
            </geometry>
        </collision>
        <inertial>
            <origin xyz="0 0 0" rpy="0 0 0" />
            <mass value="0.016" />
            <inertia ixx="0.000003368" ixy="0.000000115" ixz="0" iyy="0.000001556" iyz="0"
                izz="0.000002863" />
        </inertial>
    </link>

    <joint name="8" type="revolute">
        <origin xyz="-0.012200000000000004244 0.038100000000000001921 0.014499999999999999001"
            rpy="-1.570796326794896558 -1.0065212660796360242e-15 1.5707963267948943376" />
        <parent link="mcp_joint_3" />
        <child link="pip_3" />
        <axis xyz="0 0 -1" />
        <limit effort="0.95" velocity="8.48" lower="-1.047" upper="1.047" />
        <joint_properties friction="0.0" />
    </joint>

    <joint name="9" type="revolute">
        <origin xyz="-0.0070952454426398371343 -0.067842243865100515521 -0.018722407666402932774"
            rpy="1.5707963267948950037 1.5707963267948945596 0" />
        <parent link="palm_lower" />
        <child link="mcp_joint_3" />
        <axis xyz="0 0 -1" />
        <limit effort="0.95" velocity="8.48" lower="-0.314" upper="2.23" />
        <joint_properties friction="0.0" />
    </joint>

    <joint name="10" type="revolute">
        <origin xyz="0.014999999999999971689 0.014299999999999951639 -0.012999999999999959505"
            rpy="1.5707963267948958919 -1.570796326794896336 0" />
        <parent link="pip_3" />
        <child link="dip_3" />
        <axis xyz="0 0 -1" />
        <limit effort="0.95" velocity="8.48" lower="-0.506" upper="1.885" />
        <joint_properties friction="0.0" />
    </joint>

    <joint name="11" type="revolute">
        <origin xyz="9.7144514654701197287e-17 -0.036099999999999868305 0.00020000000000007511769"
            rpy="4.5935029425113685044e-17 -2.8730071914463799514e-16 1.5565411607615035382e-32" />
        <parent link="dip_3" />
        <child link="fingertip_3" />
        <axis xyz="0 0 -1" />
        <limit effort="0.95" velocity="8.48" lower="-0.366" upper="2.042" />
        <joint_properties friction="0.0" />
    </joint>

    <link name="pip_4">
        <visual>
            <origin
                xyz="-0.0053566369077286714317 0.00029999999999999991951 0.00078403401041737819099"
                rpy="-1.570796326794896558 -1.570796326794896336 0" />
            <geometry>
                <mesh filename="package://meshes/pip.obj" />
            </geometry>
        </visual>
        <collision>
            <origin
                xyz="-0.0053566369077286714317 0.00029999999999999991951 0.00078403401041737819099"
                rpy="-1.570796326794896558 -1.570796326794896336 0" />
            <geometry>
                <mesh filename="package://meshes/pip.stl" />
            </geometry>
        </collision>
        <inertial>
            <origin xyz="0 0 0" rpy="0 0 0" />
            <mass value="0.032" />
            <inertia ixx="0.000004798" ixy="0.000000012" ixz="0.000000004" iyy="0.000002862"
                iyz="0.000000011" izz="0.000004234" />
        </inertial>
    </link>

    <link
        name="thumb_pip">
        <visual>
            <origin
                xyz="0.011961920770611186859 -5.3082538364890297089e-16 -0.015852648956664199681"
                rpy="1.570796326794896558 1.6050198443300152637e-46 -3.9204996250525192755e-59" />
            <geometry>
                <mesh filename="package://meshes/thumb_pip.obj" />
            </geometry>
        </visual>
        <collision>
            <origin
                xyz="0.011961920770611186859 -5.3082538364890297089e-16 -0.015852648956664199681"
                rpy="1.570796326794896558 1.6050198443300152637e-46 -3.9204996250525192755e-59" />
            <geometry>
                <mesh filename="package://meshes/thumb_pip.stl" />
            </geometry>
        </collision>
        <inertial>
            <origin xyz="0 0 0" rpy="0 0 0" />
            <mass value="0.003" />
            <inertia ixx="0.000000593" ixy="0" ixz="0" iyy="0.000000549" iyz="0" izz="0.000000224" />
        </inertial>
    </link>

    <link
        name="thumb_dip">
        <visual>
            <origin xyz="0.043968715707239175439 0.057952952973709198625 -0.0086286764493694757122"
                rpy="1.9428902930940098942e-16 3.2751579226442200773e-15 1.1123758529657360012e-46" />
            <geometry>
                <mesh filename="package://meshes/thumb_dip.obj" />
            </geometry>
        </visual>
        <collision>
            <origin xyz="0.043968715707239175439 0.057952952973709198625 -0.0086286764493694757122"
                rpy="1.9428902930940098942e-16 3.2751579226442200773e-15 1.1123758529657360012e-46" />
            <geometry>
                <mesh filename="package://meshes/thumb_dip.stl" />
            </geometry>
        </collision>
        <inertial>
            <origin xyz="0 0 0" rpy="0 0 0" />
            <mass value="0.038" />
            <inertia ixx="0.000008474" ixy="0.000000241" ixz="0.000000026" iyy="0.000003841"
                iyz="0.000000025" izz="0.000007679" />
        </inertial>
    </link>

    <link
        name="thumb_fingertip">
        <visual>
            <origin xyz="0.062559538462667388381 0.078459682911396988469 0.048992911807332215068"
                rpy="4.3790577010156367543e-47 -3.3306690738754701143e-16 1.2042408677791935383e-46" />
            <geometry>
                <mesh filename="package://meshes/thumb_fingertip.obj" />
            </geometry>
        </visual>
        <collision>
            <origin xyz="0.062559538462667388381 0.078459682911396988469 0.048992911807332215068"
                rpy="4.3790577010156367543e-47 -3.3306690738754701143e-16 1.2042408677791935383e-46" />
            <geometry>
                <mesh filename="package://meshes/thumb_fingertip.stl" />
            </geometry>
        </collision>
        <inertial>
            <origin xyz="0 0 0" rpy="0 0 0" />
            <mass value="0.049" />
            <inertia ixx="0.000020372" ixy="-0.000000489" ixz="-0.00000003" iyy="0.000004336"
                iyz="-0.000000097" izz="0.000019845" />
        </inertial>
    </link>

    <joint
        name="12" type="revolute">
        <origin xyz="-0.069395249652862533996 -0.0012422438651005258004 -0.021622403578460215601"
            rpy="-8.2381766464939424156e-17 1.5707963267948956698 0" />
        <parent link="palm_lower" />
        <child link="pip_4" />
        <axis xyz="0 0 -1" />
        <limit effort="0.95" velocity="8.48" lower="-0.349" upper="2.094" />
        <joint_properties friction="0.0" />
    </joint>

    <joint name="13" type="revolute">
        <origin xyz="-2.7755575615628913511e-17 0.014300000000000005415 -0.013000000000000011546"
            rpy="1.5707963267948958919 -1.570796326794896336 0" />
        <parent link="pip_4" />
        <child link="thumb_pip" />
        <axis xyz="0 0 -1" />
        <limit effort="0.95" velocity="8.48" lower="-0.47" upper="2.443" />
        <joint_properties friction="0.0" />
    </joint>

    <joint name="14" type="revolute">
        <origin xyz="0 0.014499999999999966041 -0.017000000000000053263"
            rpy="-1.570796326794896558 1.6050198443300131245e-46 -1.9721522630516624601e-31" />
        <parent link="thumb_pip" />
        <child link="thumb_dip" />
        <axis xyz="0 0 -1" />
        <limit effort="0.95" velocity="8.48" lower="-1.20" upper="1.90" />
        <joint_properties friction="0.0" />
    </joint>

    <joint name="15" type="revolute">
        <origin xyz="-1.249000902703301108e-16 0.046599999999999863753 0.00019999999999997710581"
            rpy="1.5063958491491781023e-44 5.4234187233935260503e-31 3.141592653589793116" />
        <parent link="thumb_dip" />
        <child link="thumb_fingertip" />
        <axis xyz="0 0 -1" />
        <limit effort="0.95" velocity="8.48" lower="-1.34" upper="1.88" />
        <joint_properties friction="0.0" />
    </joint>
</robot>
